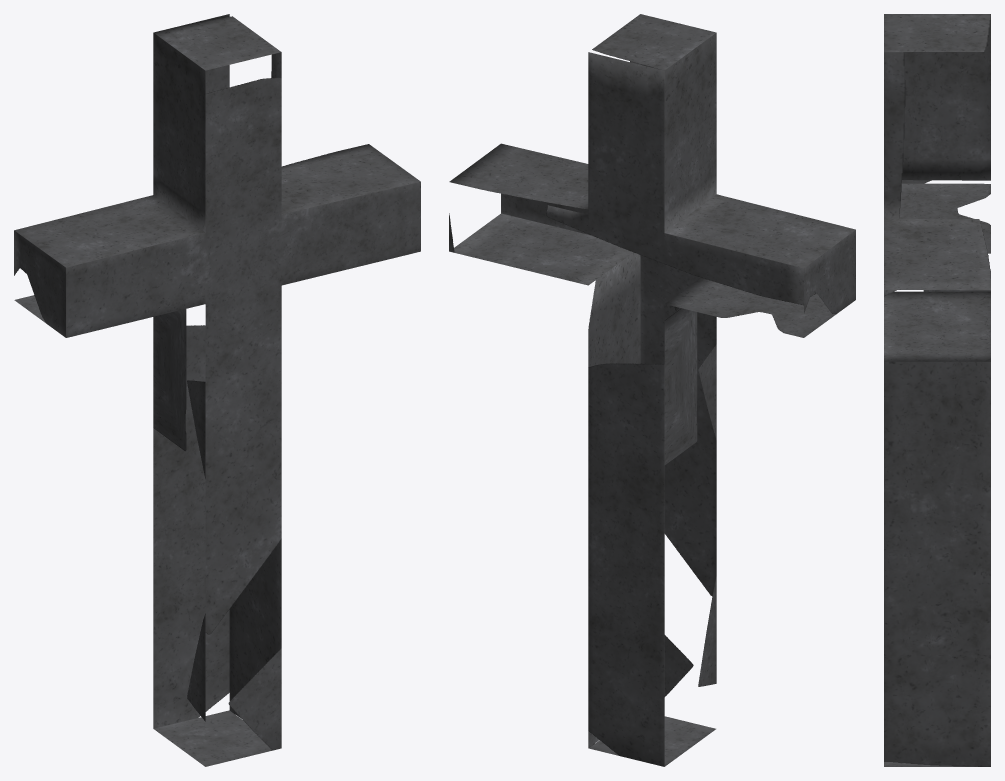
Rendered from stone_06.fbx.
The picture shows the model from 3 angles, left to right: view 1: azimuth 30°, elevation 25°; view 2: azimuth 150°, elevation 25°; view 3: azimuth 270°, elevation 25°; orthographic projection. The views are drawn at different scales.
Parts seen in each view (by area): view 1: stone_06; view 2: stone_06; view 3: stone_06.
Part boxes in pixels (box(x1,y1,x2,y2)): stone_06: box(14, 14, 420, 766); stone_06: box(449, 14, 855, 766); stone_06: box(884, 14, 990, 766).
Size of the model in its own units: 53.5 by 100 by 13.6.
